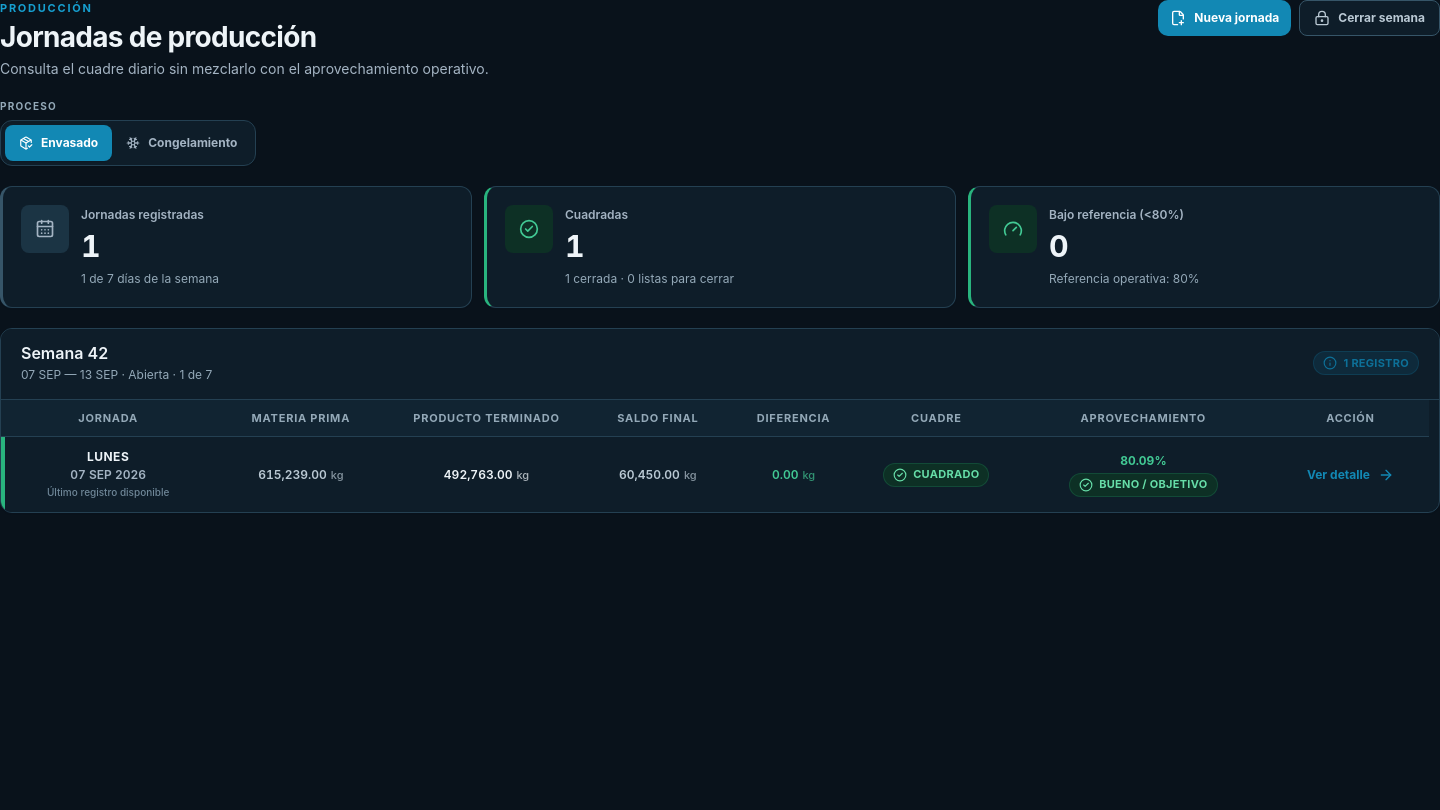
Test: production days page › keeps past week 42 open and closes it manually without fictitious days
expect the text "07 SEP — 13 SEP · Abierta · 1 de 7" is shown: met, box 21,365 -> 212,385
expect the link "Nueva jornada" is shown: met, box 1158,0 -> 1291,36
Click the button "Cerrar semana".
click(1370, 18)  # box 1299,0 -> 1439,36
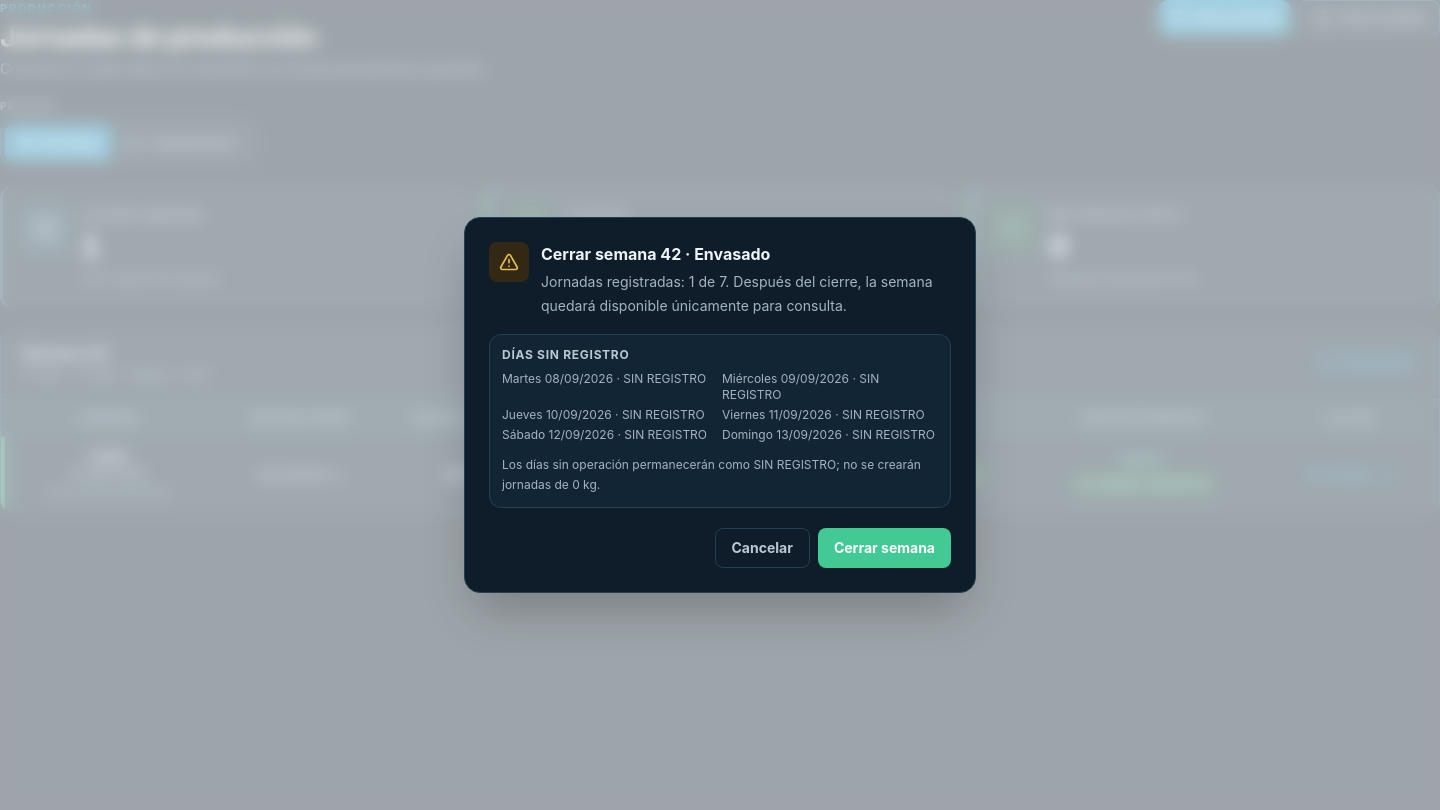
expect the list item "Martes 08/09/2026 · SIN REGISTRO" is shown: met, box 502,371 -> 706,386
expect the list item "Domingo 13/09/2026 · SIN REGISTRO" is shown: met, box 722,427 -> 938,443
Click the button "Cerrar semana".
click(884, 548)  # box 818,528 -> 951,568
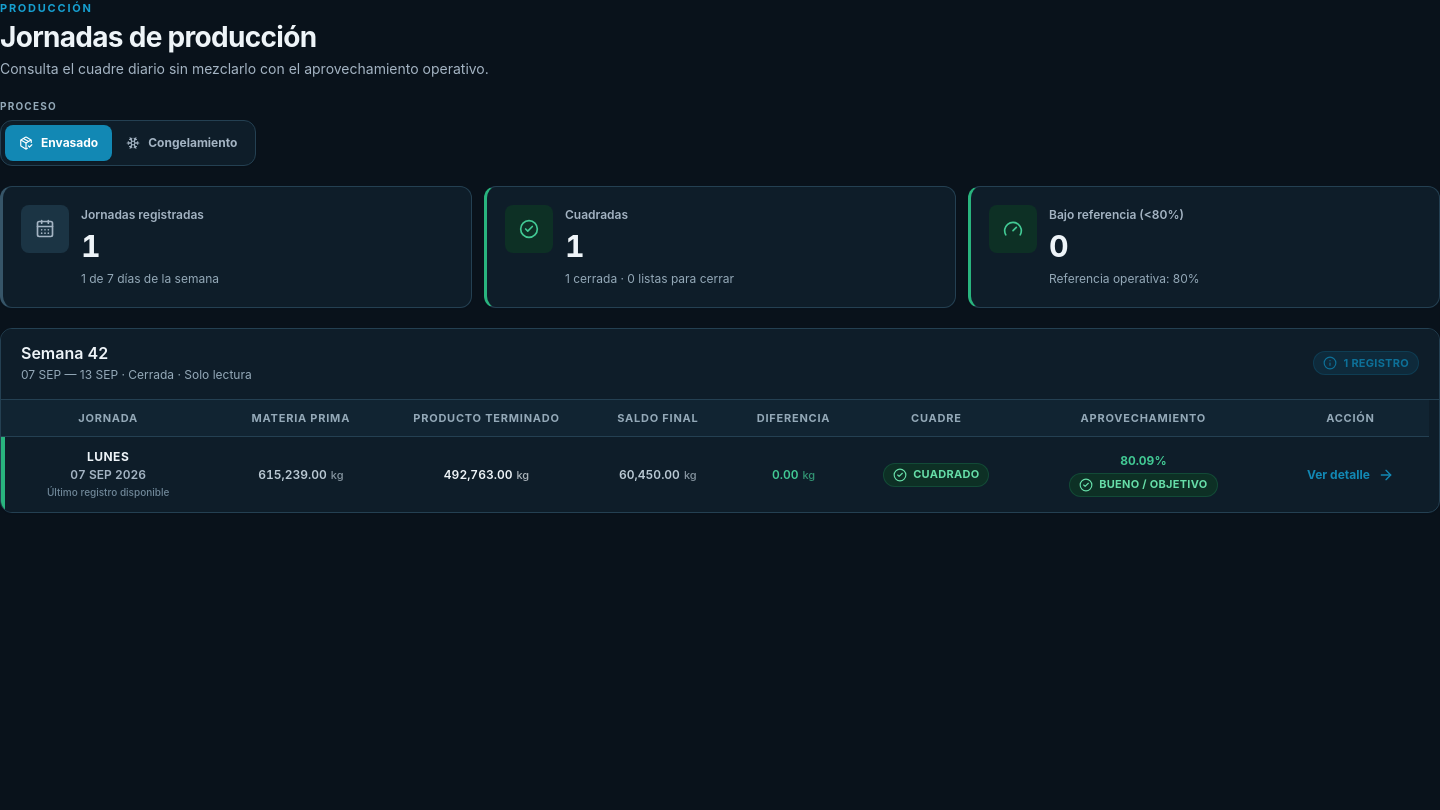
expect the text "07 SEP — 13 SEP · Cerrada · Solo lectura" is shown: met, box 21,365 -> 252,385
expect the link "Nueva jornada" is gone: met
expect the button "Cerrar semana" is gone: met
